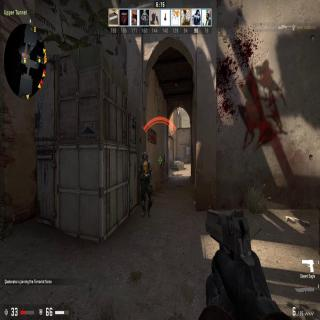CT-Body: (140, 151, 152, 212)
CT-Head: (142, 150, 146, 161)
